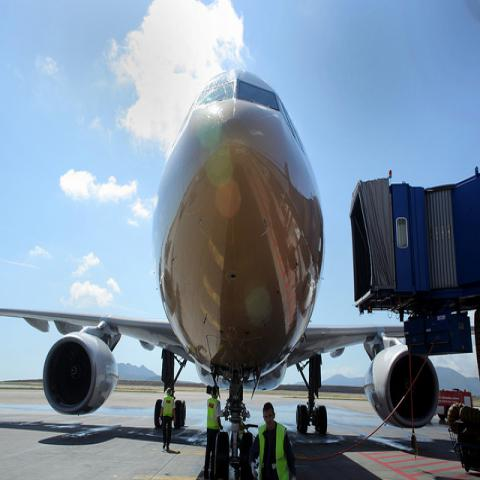truck: (439, 388, 473, 420)
